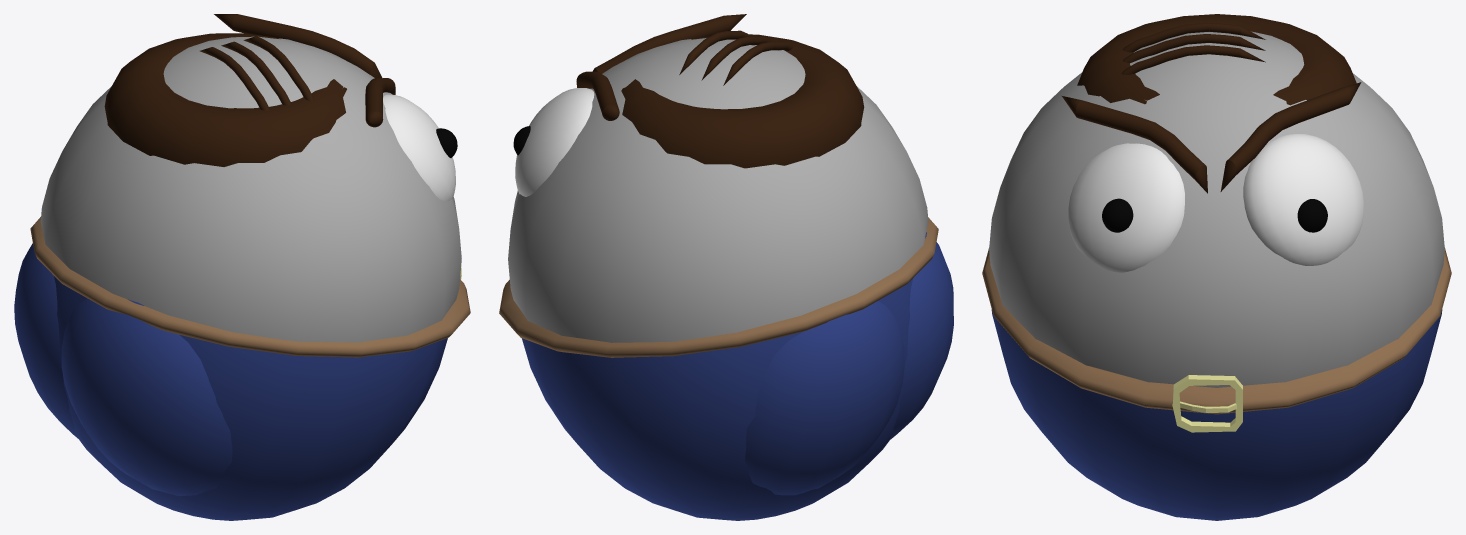
Rendered from ElPatron (1).fbx.
3 views of the same model, side by side, from view 1: azimuth 30°, elevation 25°; view 2: azimuth 150°, elevation 25°; view 3: azimuth 270°, elevation 25° (orthographic). The views are drawn at different scales.
Visible parts, largest first — view 1: pSphere11; view 2: pSphere11; view 3: pSphere11.
Part boxes in pixels (box(x1,y1,x2,y2)): pSphere11: box(14, 14, 470, 520); pSphere11: box(499, 14, 953, 520); pSphere11: box(982, 14, 1451, 520).
Bounding box in the file's own units: 3.12 × 3.42 × 3.07.
